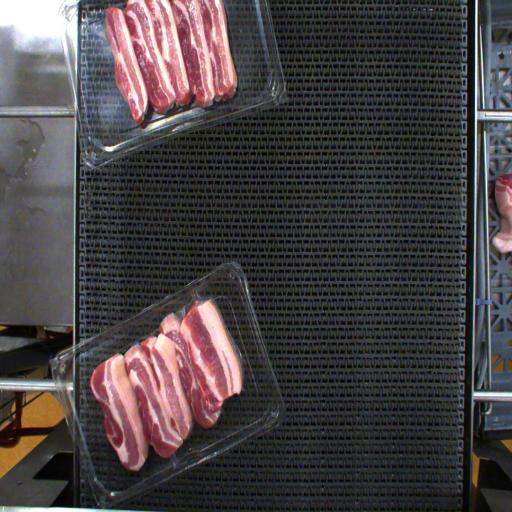packaging-error: (185, 280, 212, 307), (174, 300, 194, 326)
